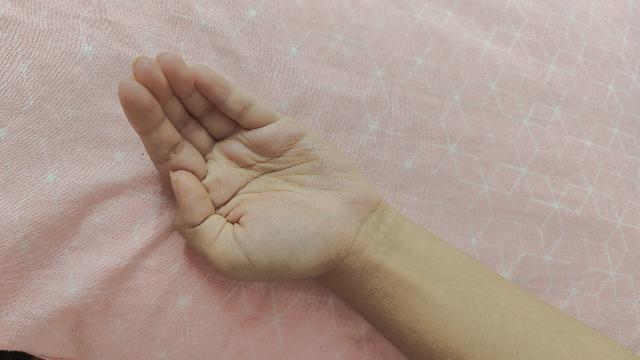sarpsheesh: (116, 54, 640, 360)
